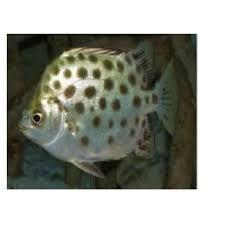Scat Fish: (20, 36, 181, 181)
